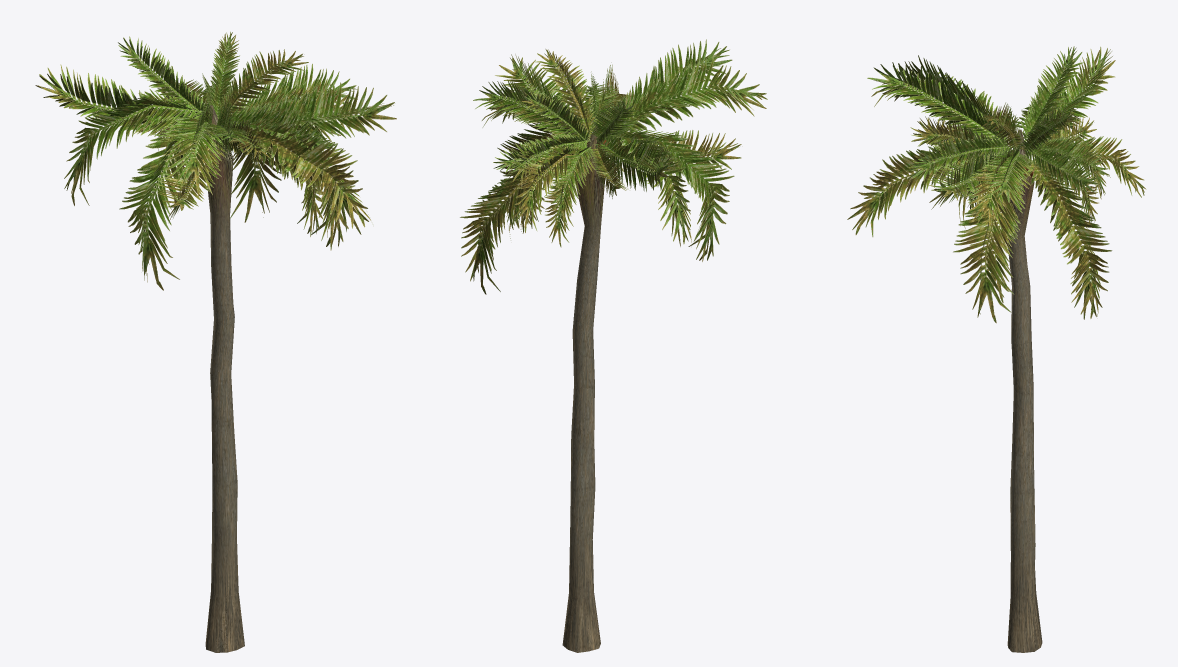
File: coconut_palm1.fbx
3 renders of one model, left to right at view 1: azimuth 30°, elevation 25°; view 2: azimuth 150°, elevation 25°; view 3: azimuth 270°, elevation 25°, orthographic. The views are drawn at different scales.
Visible parts, largest first — view 1: coconut_palm1_leaves, coconut_palm1_trunk; view 2: coconut_palm1_leaves, coconut_palm1_trunk; view 3: coconut_palm1_leaves, coconut_palm1_trunk.
Boxes of the visible parts, box(x1,y1,x2,y2) form: coconut_palm1_leaves: box(35, 31, 396, 290); coconut_palm1_trunk: box(205, 105, 244, 652); coconut_palm1_leaves: box(460, 39, 767, 294); coconut_palm1_trunk: box(562, 125, 604, 652); coconut_palm1_leaves: box(847, 46, 1146, 323); coconut_palm1_trunk: box(1007, 129, 1042, 652).
Bounding box in the file's own units: 305 × 574 × 303.
